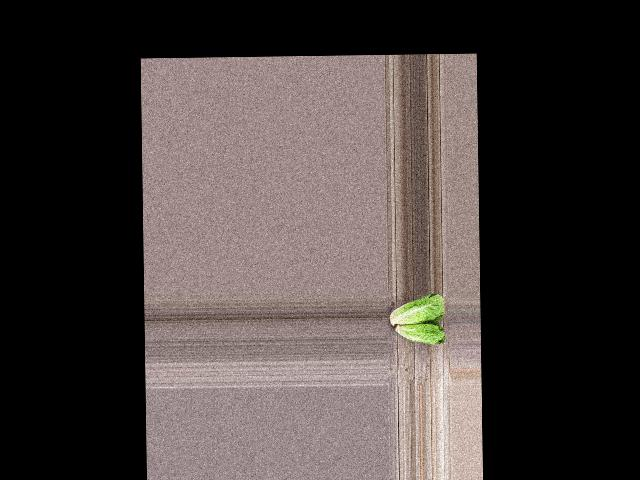lettuce: (386, 292, 446, 325)
